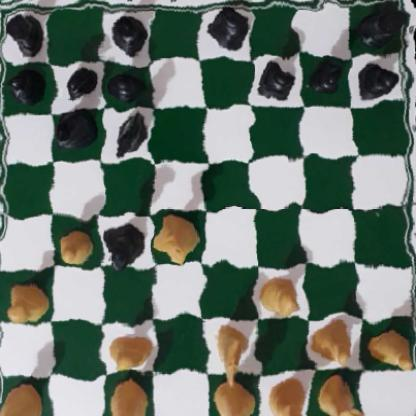black-bishop: (49, 108, 95, 150), (111, 11, 151, 51)
black-king: (203, 7, 250, 50)
black-knight: (111, 111, 148, 156)
black-pawn: (356, 58, 400, 105), (60, 64, 100, 108), (255, 58, 296, 98), (306, 57, 346, 96), (8, 66, 44, 105), (113, 66, 143, 100)
black-queen: (98, 225, 146, 277)
black-rook: (354, 0, 402, 47), (0, 11, 48, 56)
white-bishop: (264, 378, 312, 416), (110, 376, 155, 416)
white-king: (210, 376, 256, 416)
white-knight: (214, 322, 248, 386)
white-pawn: (0, 277, 46, 322), (312, 320, 357, 365), (54, 224, 92, 268), (374, 326, 413, 368), (262, 275, 300, 317), (110, 329, 147, 372)
white-queen: (152, 215, 196, 265)
white-rook: (319, 379, 362, 416), (0, 381, 40, 416)
